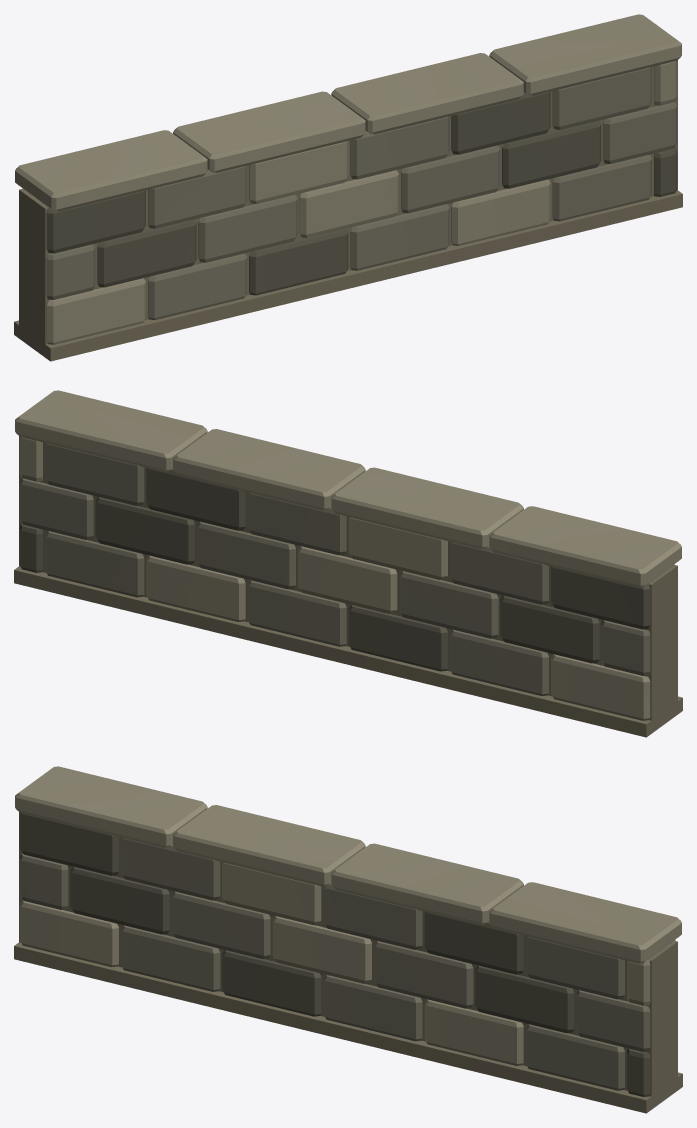
File: Prop_Rural_StoneWall4m_001.glb
3 renders of one model, top to bottom at view 1: azimuth 30°, elevation 25°; view 2: azimuth 150°, elevation 25°; view 3: azimuth 330°, elevation 25°, orthographic.
Visible parts, largest first — view 1: RU_StoneWall4m_Body; view 2: RU_StoneWall4m_Body; view 3: RU_StoneWall4m_Body.
Boxes of the visible parts, left/top/right/bottom form: RU_StoneWall4m_Body: left=14, top=14, right=682, bottom=361; RU_StoneWall4m_Body: left=14, top=390, right=682, bottom=737; RU_StoneWall4m_Body: left=14, top=766, right=682, bottom=1113.
Size of the model in its own units: 4 by 1.01 by 0.44.
